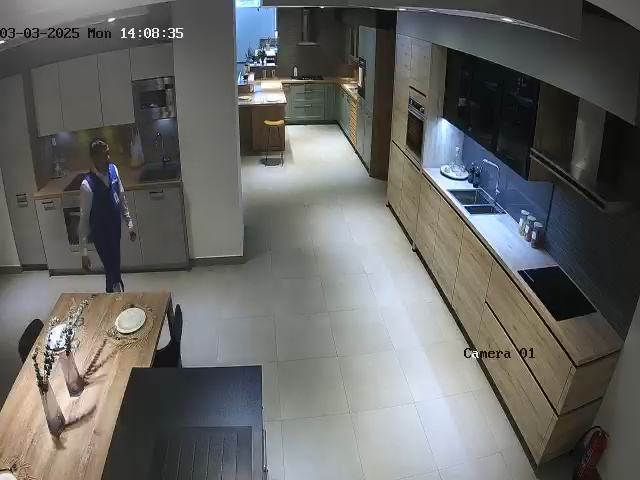employee: (78, 138, 136, 293)
